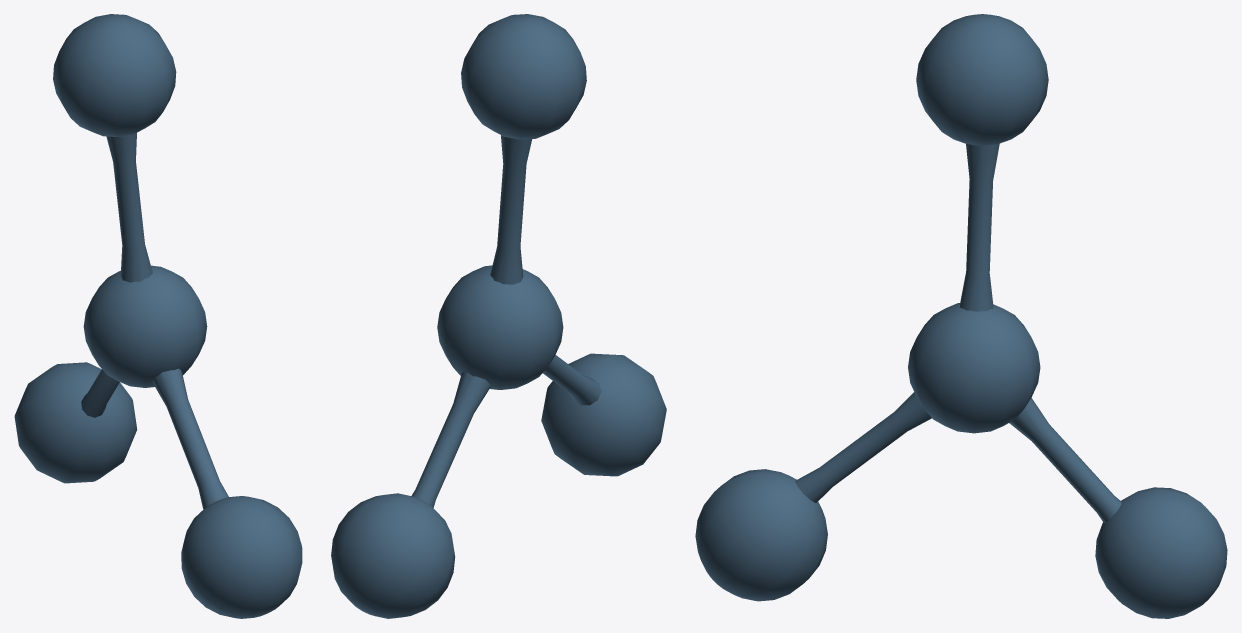
Rendered from molecule.fbx.
The picture shows the model from 3 angles, left to right: view 1: azimuth 30°, elevation 25°; view 2: azimuth 150°, elevation 25°; view 3: azimuth 270°, elevation 25°; orthographic projection. The views are drawn at different scales.
Parts seen in each view (by area): view 1: pSphere193, pSphere192, pSphere191, pSphere194, pCylinder1, pCylinder2, pCylinder3; view 2: pSphere194, pSphere192, pSphere191, pSphere193, pCylinder1, pCylinder3, pCylinder2; view 3: pSphere192, pSphere194, pSphere193, pSphere191, pCylinder1, pCylinder2, pCylinder3.
Boxes of the visible parts, x1,y1,x2,y2 form: pSphere193: (181,496,302,618); pSphere192: (53,14,176,137); pSphere191: (83,265,207,387); pSphere194: (14,362,137,483); pCylinder1: (106,133,152,282); pCylinder2: (152,368,228,509); pCylinder3: (81,369,119,417); pSphere194: (331,493,455,618); pSphere192: (461,14,586,139); pSphere191: (437,265,563,389); pSphere193: (541,353,666,476); pCylinder1: (490,135,532,284); pCylinder3: (411,372,490,507); pCylinder2: (543,355,601,405); pSphere192: (916,14,1048,145); pSphere194: (1095,487,1227,618); pSphere193: (695,469,827,601); pSphere191: (908,303,1040,433); pCylinder1: (960,143,999,311); pCylinder2: (795,392,931,502); pCylinder3: (1009,398,1121,522).
Size of the model in its own units: 0.13 by 0.4361 by 0.3695.
